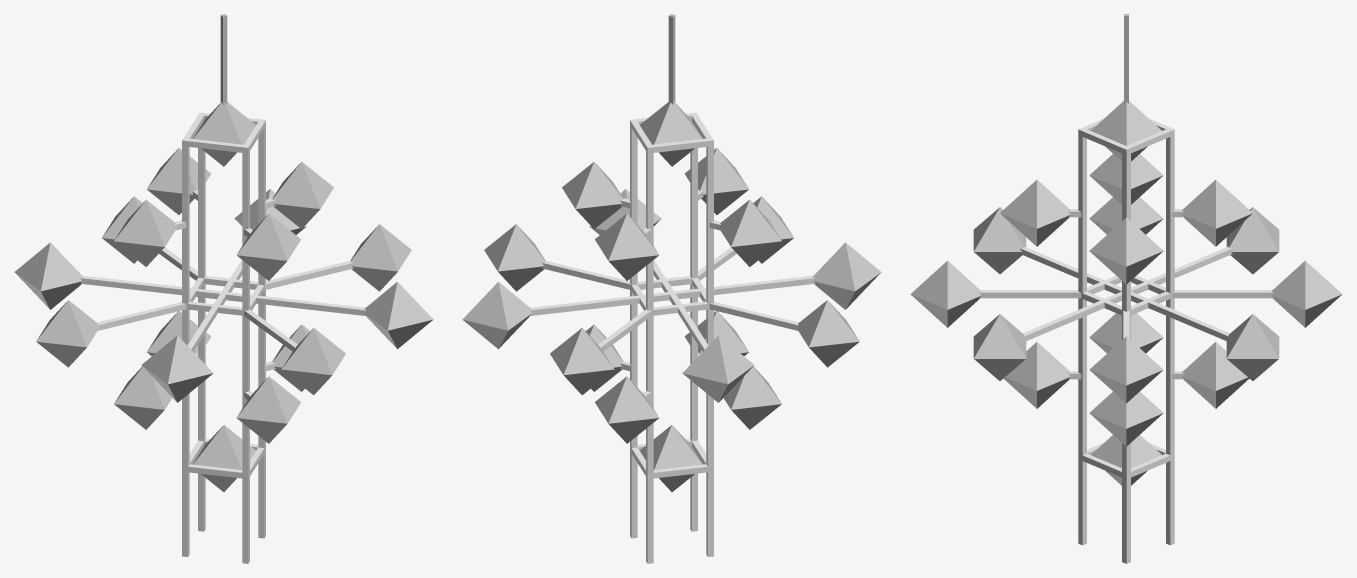
File: RoadLight10.obj
3 renders of one model, left to right at view 1: azimuth 30°, elevation 25°; view 2: azimuth 150°, elevation 25°; view 3: azimuth 270°, elevation 25°, orthographic.
Size of the model in its own units: 4.35 by 5.87 by 4.35.
